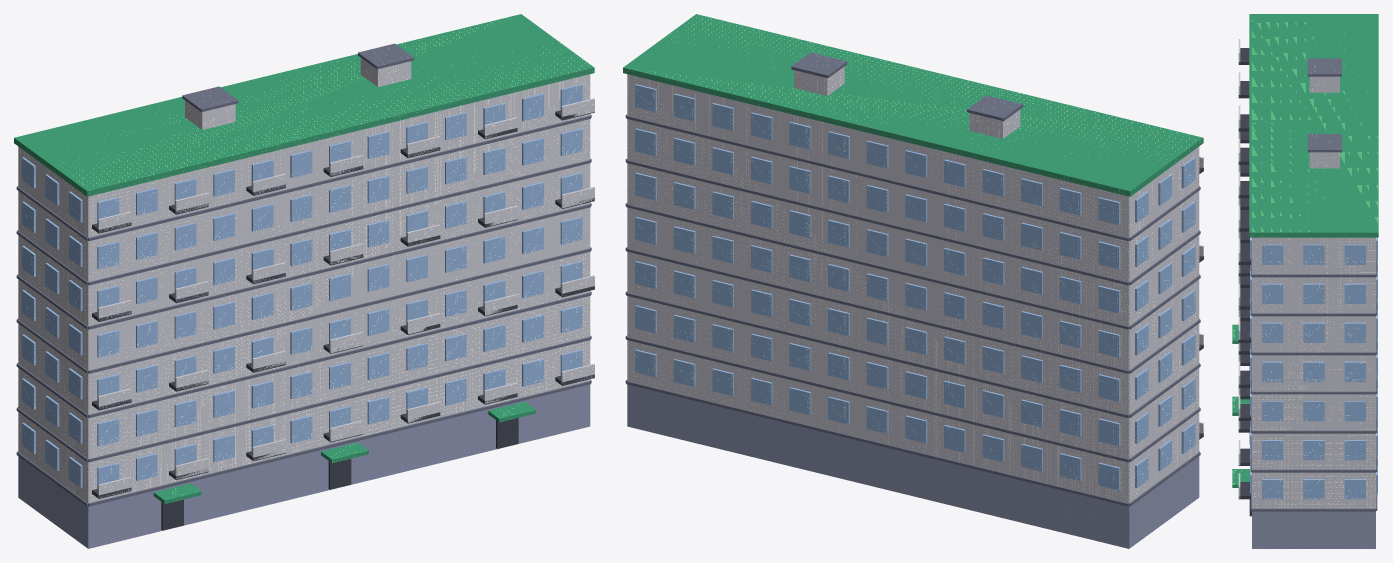
File: panel-3x1-l2.glb
3 views of the same model, side by side, from view 1: azimuth 30°, elevation 25°; view 2: azimuth 150°, elevation 25°; view 3: azimuth 270°, elevation 25° (orthographic). The views are drawn at different scales.
Parts seen in each view (by area): view 1: panel-3x1-l2; view 2: panel-3x1-l2; view 3: panel-3x1-l2.
Part boxes in pixels (<box>): panel-3x1-l2: <box>14,14,594,548</box>; panel-3x1-l2: <box>623,14,1203,548</box>; panel-3x1-l2: <box>1232,14,1378,548</box>.
Bounding box in the file's own units: 5.76 × 4.14 × 1.63.
1 material, 1 textured.
